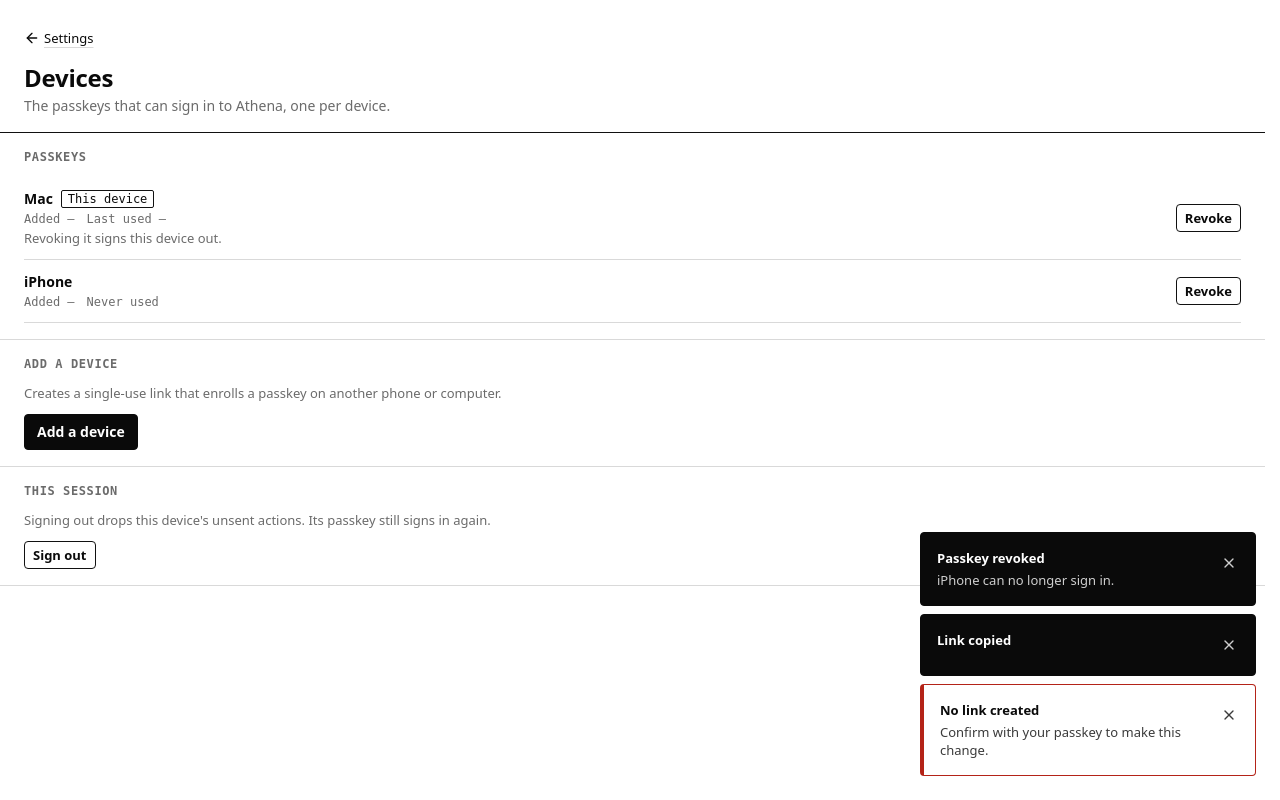
Test: a revoke of this device that did not happen says so; one not confirmed says to check
Click the button "Revoke" in the row of "Mac" at (1208, 218), box [1176,204,1241,232]
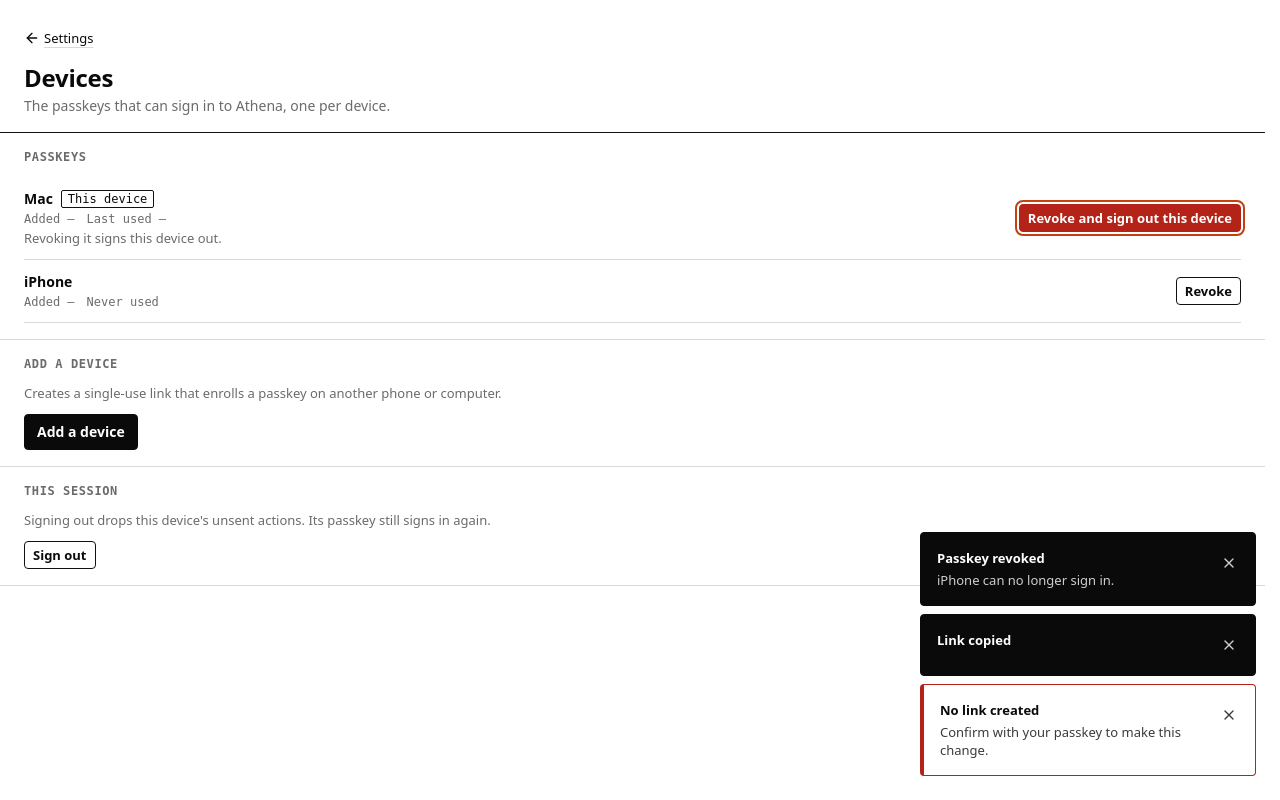
Click the button "Revoke and sign out this device" at (1130, 218), box [1019,204,1241,232]
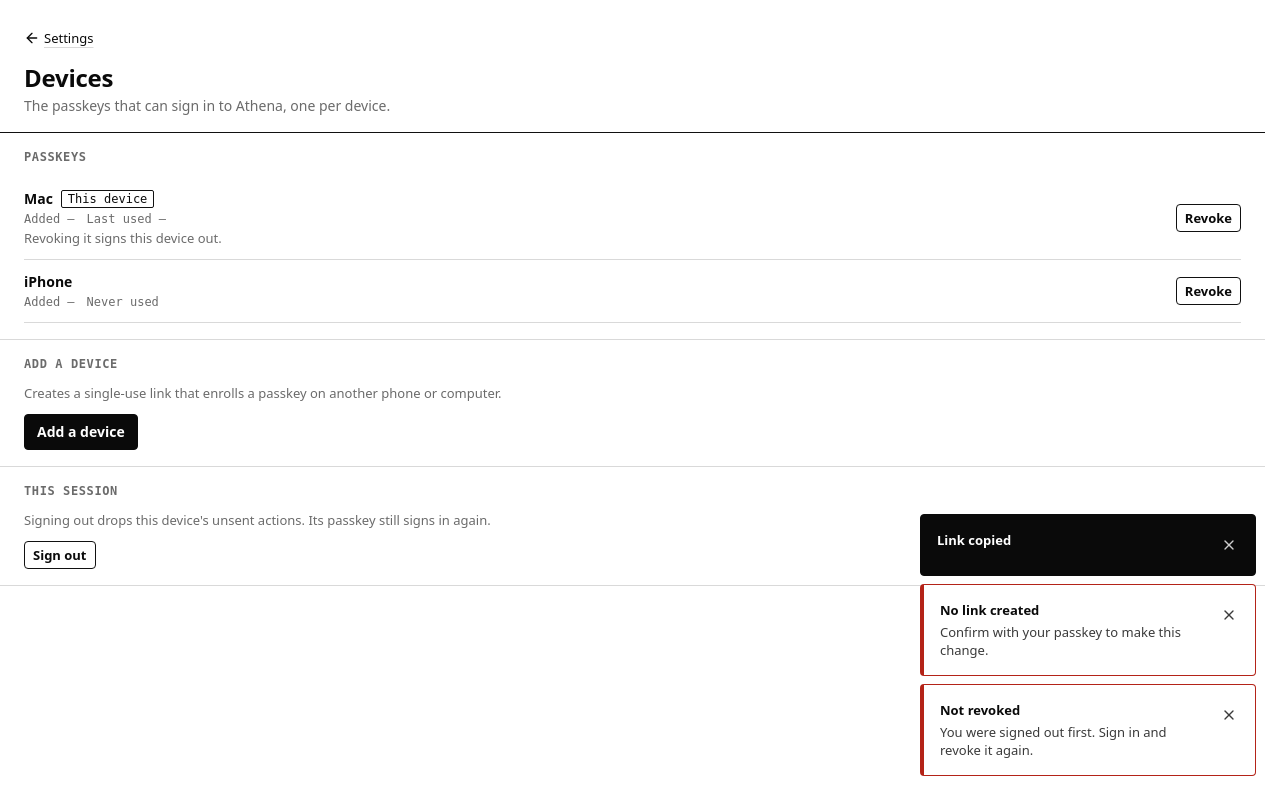
Expected: the text "You were signed out first. Sign in and revoke it again." is shown, [940,723,1199,759]
Click the button "Revoke" in the row of "Mac" at (1208, 218), box [1176,204,1241,232]
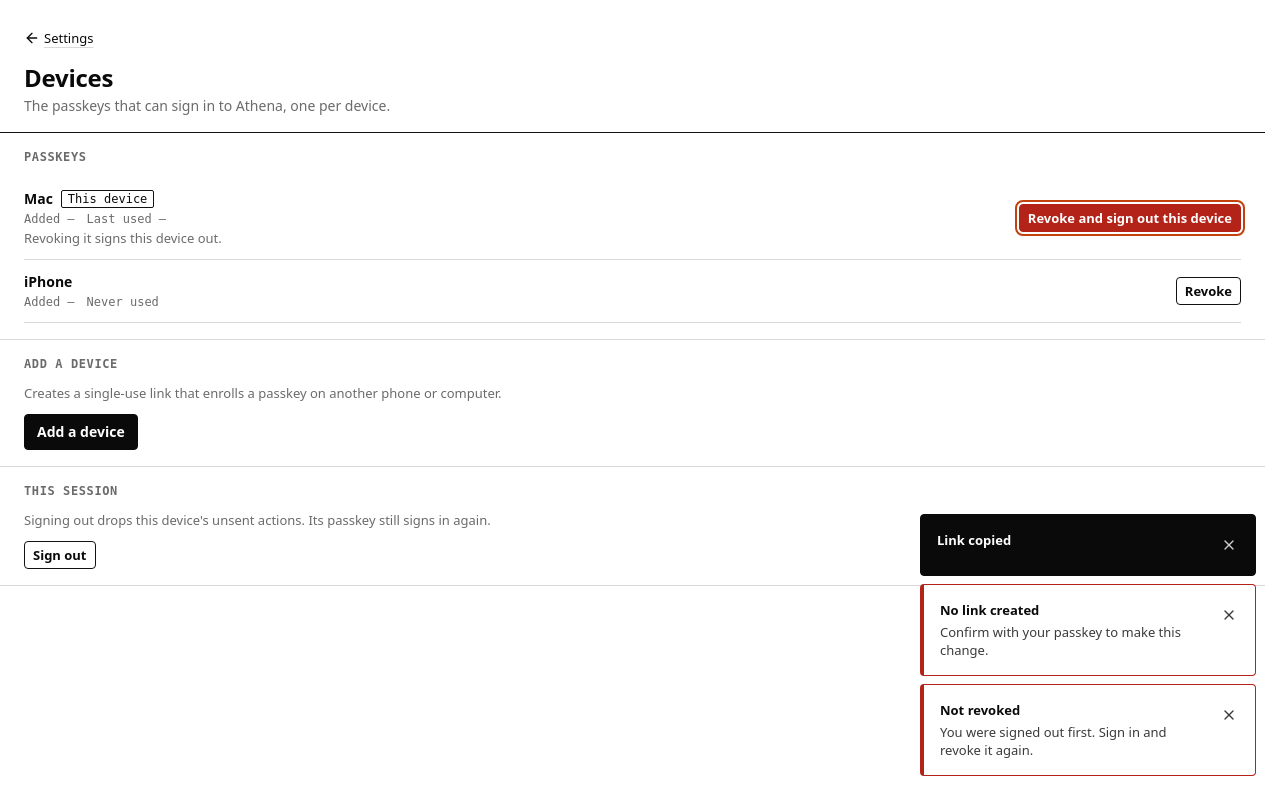
Click the button "Revoke and sign out this device" at (1130, 218), box [1019,204,1241,232]
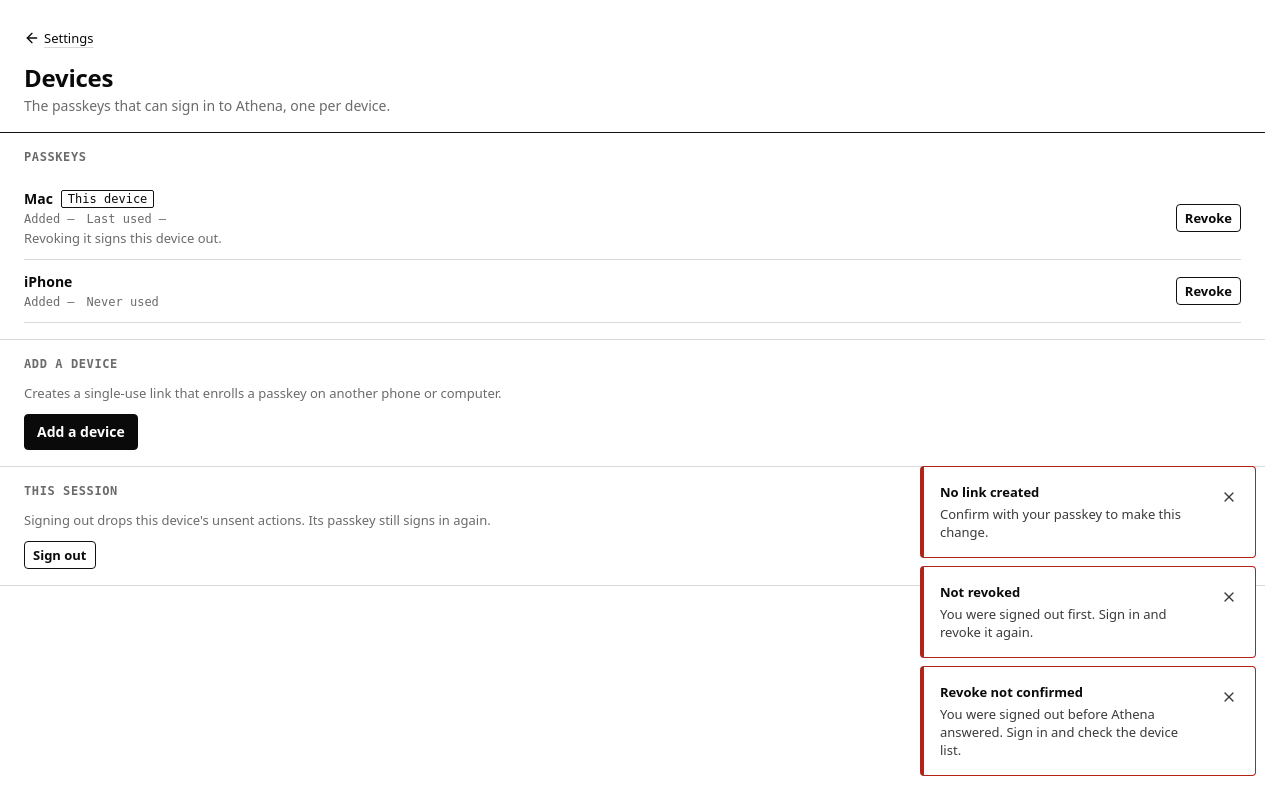
Expected: the text "You were signed out before Athena answered. Sign in and check the device list." is shown, [940,705,1199,759]
